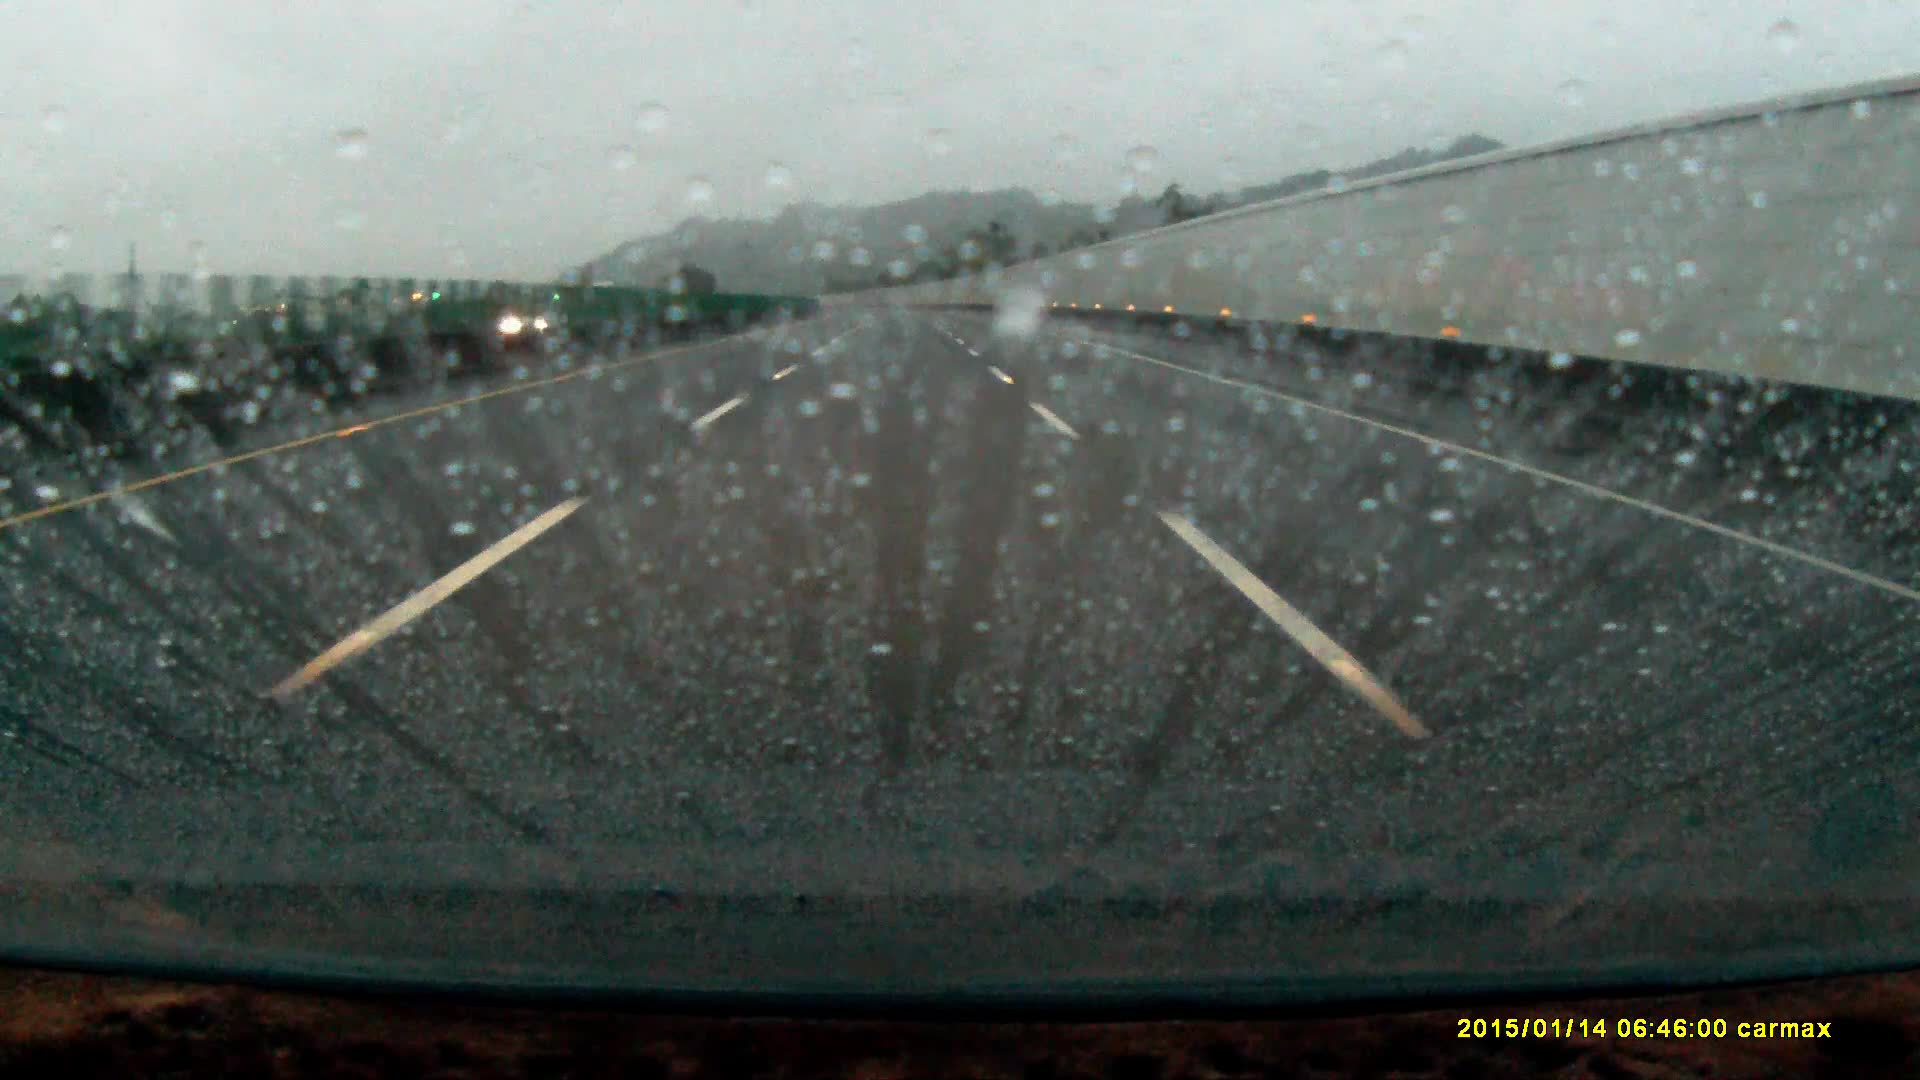vehicle: (498, 297, 562, 338)
